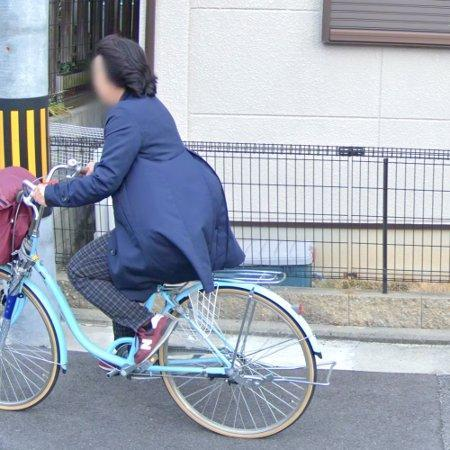bicycles: (160, 287, 317, 438)
